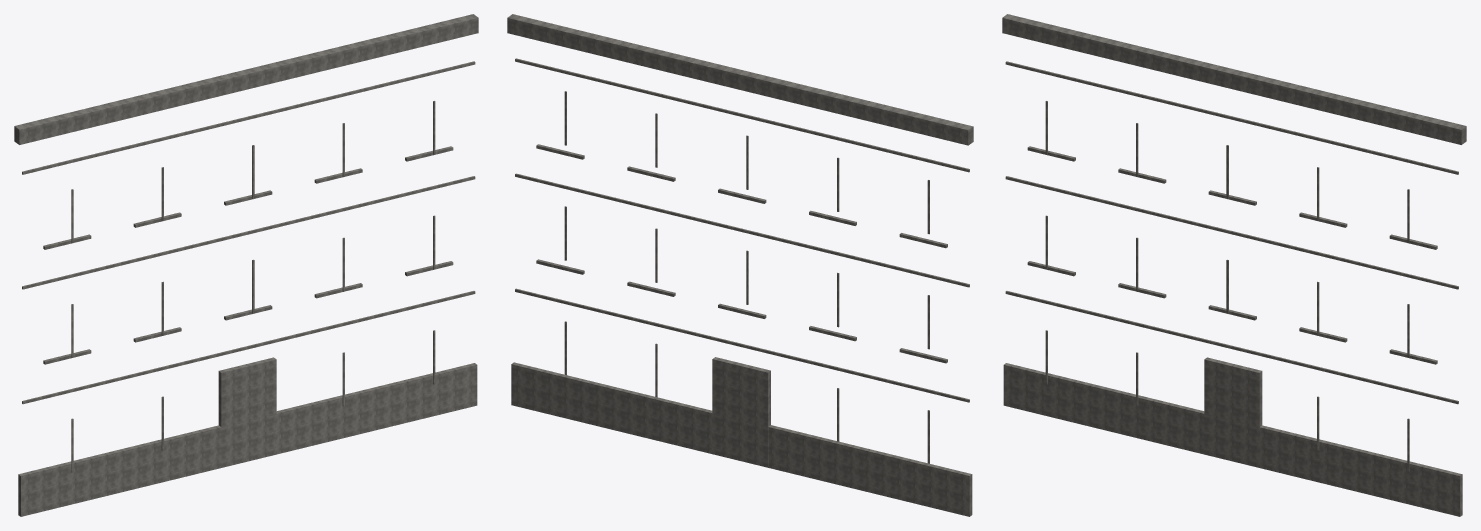
The model's file is Street_BlockR3_Trim.obj.
3 renders of one model, left to right at view 1: azimuth 30°, elevation 25°; view 2: azimuth 150°, elevation 25°; view 3: azimuth 330°, elevation 25°, orthographic.
Bounding box in the file's own units: 13.2 × 10.64 × 0.485.
Materials: 1 (1 with a texture image).
